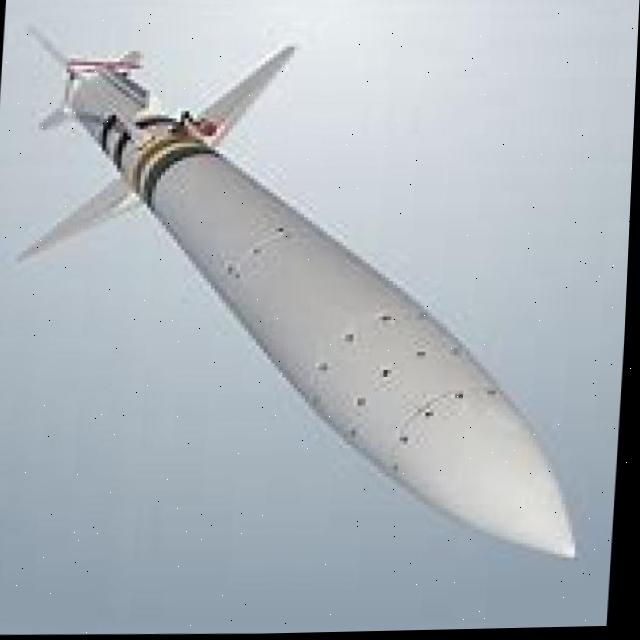missile: (0, 9, 620, 583)
